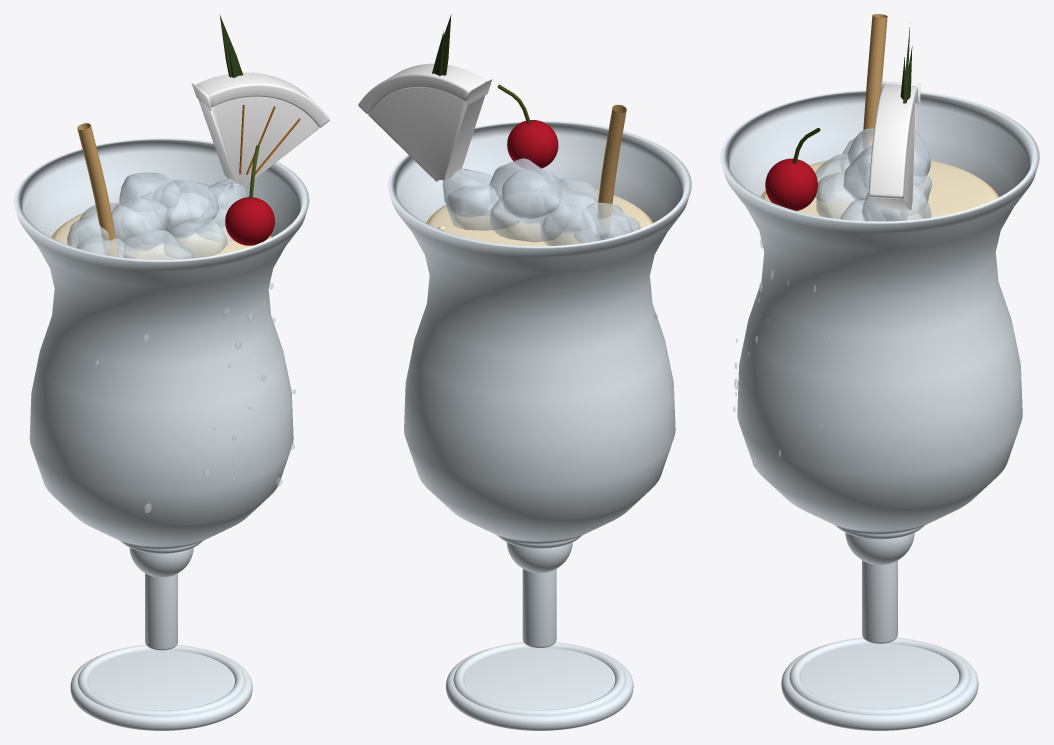
Rendered from pina-colada-hero-v4.glb.
The picture shows the model from 3 angles, left to right: view 1: azimuth 30°, elevation 25°; view 2: azimuth 150°, elevation 25°; view 3: azimuth 270°, elevation 25°; orthographic projection. The views are drawn at different scales.
Parts seen in each view (by area): view 1: Glass_Bowl, Glass_Foot, Pineapple_Flesh, Pineapple_Rind, Ice_09, Foam_Crown, Glass_FootRim, Ice_08, Glass_Stem, Ice_03, Straw_Main, Ice_10 (+12 smaller); view 2: Glass_Bowl, Glass_Foot, Pineapple_Flesh, Foam_Crown, Pineapple_Rind, Ice_06, Glass_FootRim, Ice_10, Glass_Stem, Ice_07, Ice_05, Ice_08 (+8 smaller); view 3: Glass_Bowl, Glass_Foot, Foam_Crown, Pineapple_Rind, Glass_FootRim, Glass_Stem, Cherry_Fruit, Ice_03, Straw_Main, Glass_StemBulb, Ice_02, Ice_09 (+7 smaller).
Boxes of the visible parts, x1,y1,x2,y2 form: Glass_Bowl: [14, 138, 309, 550]; Glass_Foot: [70, 650, 252, 730]; Pineapple_Flesh: [198, 96, 319, 186]; Pineapple_Rind: [191, 72, 329, 127]; Ice_09: [148, 179, 218, 238]; Foam_Crown: [53, 202, 269, 259]; Glass_FootRim: [78, 645, 245, 716]; Ice_08: [111, 197, 170, 250]; Glass_Stem: [145, 573, 177, 650]; Ice_03: [163, 217, 227, 258]; Straw_Main: [77, 123, 118, 256]; Ice_10: [119, 172, 179, 212]; Glass_Bowl: [388, 120, 691, 544]; Glass_Foot: [446, 647, 633, 730]; Pineapple_Flesh: [368, 87, 485, 181]; Foam_Crown: [428, 185, 651, 246]; Pineapple_Rind: [358, 63, 492, 113]; Ice_06: [490, 190, 569, 242]; Glass_FootRim: [453, 642, 625, 715]; Ice_10: [502, 169, 562, 223]; Glass_Stem: [522, 569, 556, 647]; Ice_07: [446, 185, 519, 230]; Ice_05: [540, 200, 603, 245]; Ice_08: [536, 178, 598, 232]; Glass_Bowl: [720, 89, 1039, 535]; Glass_Foot: [781, 643, 978, 730]; Foam_Crown: [763, 158, 996, 220]; Pineapple_Rind: [868, 81, 920, 199]; Glass_FootRim: [789, 638, 970, 715]; Glass_Stem: [862, 560, 897, 643]; Cherry_Fruit: [765, 158, 817, 210]; Ice_03: [816, 172, 868, 220]; Straw_Main: [862, 14, 887, 149]; Glass_StemBulb: [845, 532, 914, 564]; Ice_02: [815, 153, 858, 202]; Ice_09: [843, 146, 873, 206].
Bounding box in the file's own units: 2.16 × 4.59 × 1.88.
